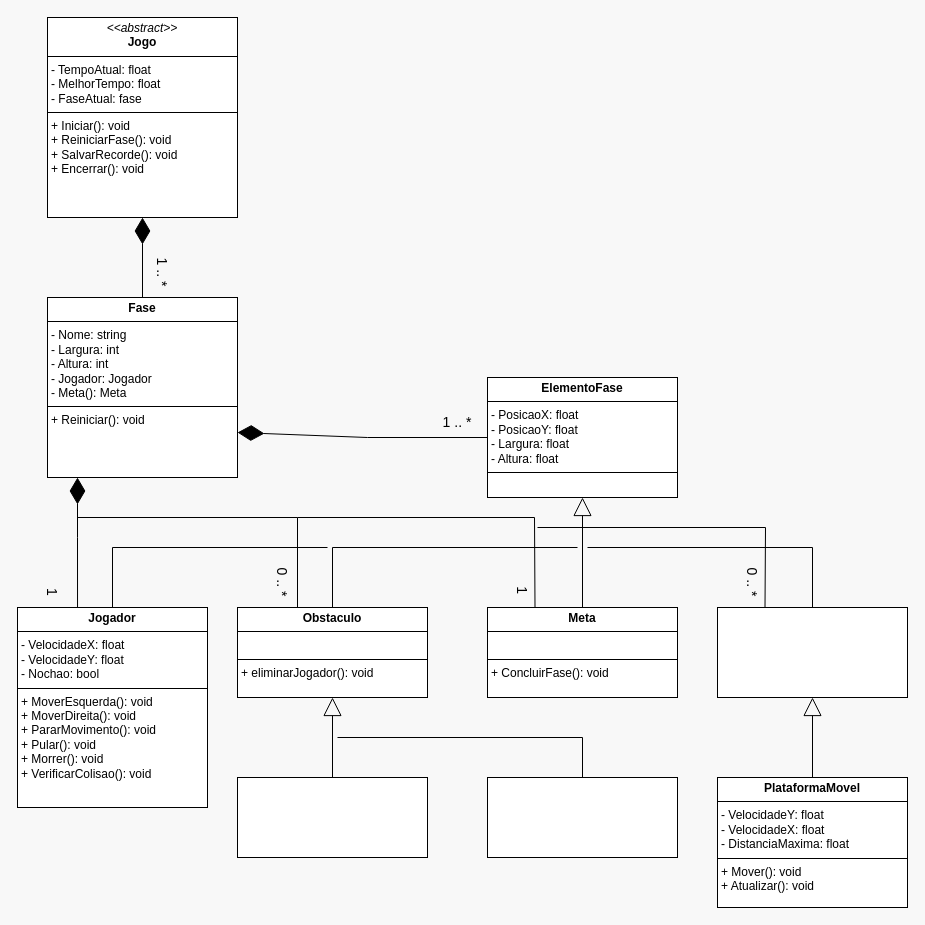
Image size: 925x925. Some labels were removed from this diagram. Here are the shapes that lost their labels. From the top down, the centre of each, then its label:
At point 812,652: "Plataforma + SustentarJogador(): void".
At point 332,817: "Buraco".
At point 582,817: "Espinho".
